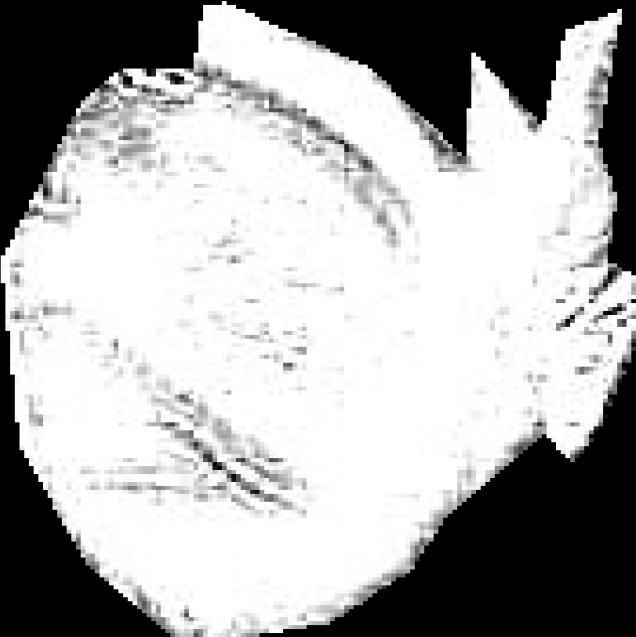tumor_less_chance: (1, 1, 636, 637)
